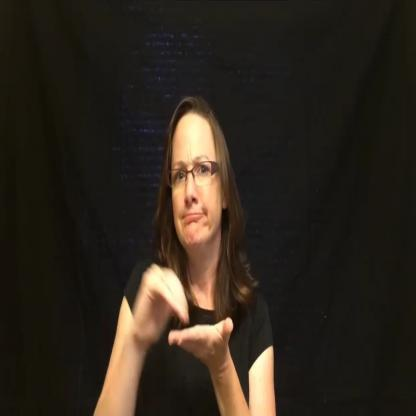ExcuseMe: (128, 238, 232, 381)
